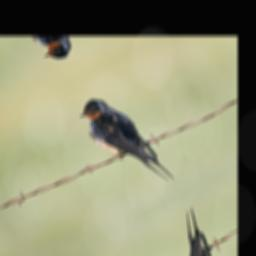Swallow: (73, 82, 177, 202)
